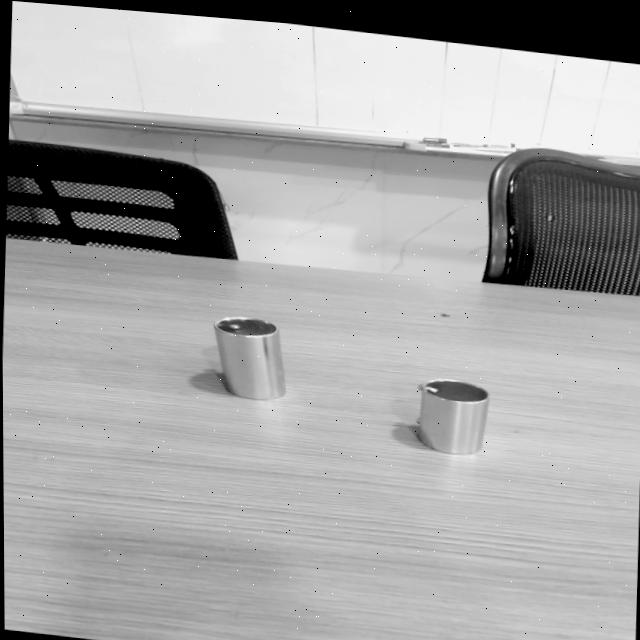Co_Lon: (211, 311, 285, 404)
Co_Nho: (409, 374, 490, 456)
